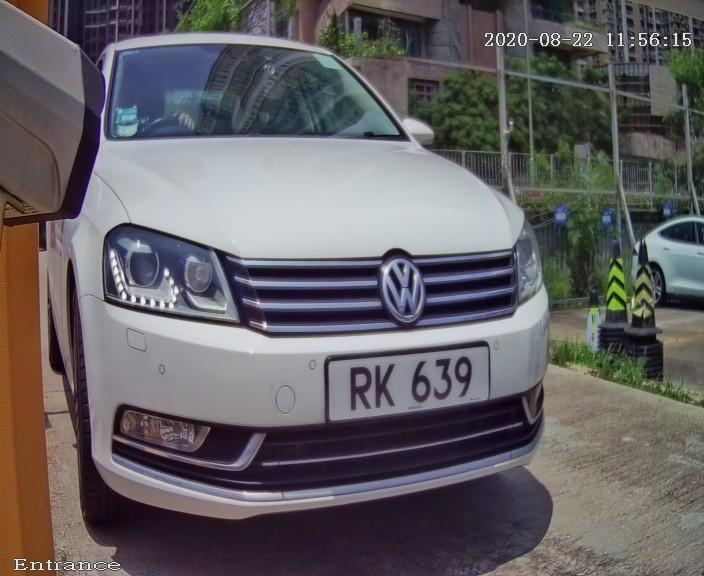License Plate: (315, 332, 497, 425)
